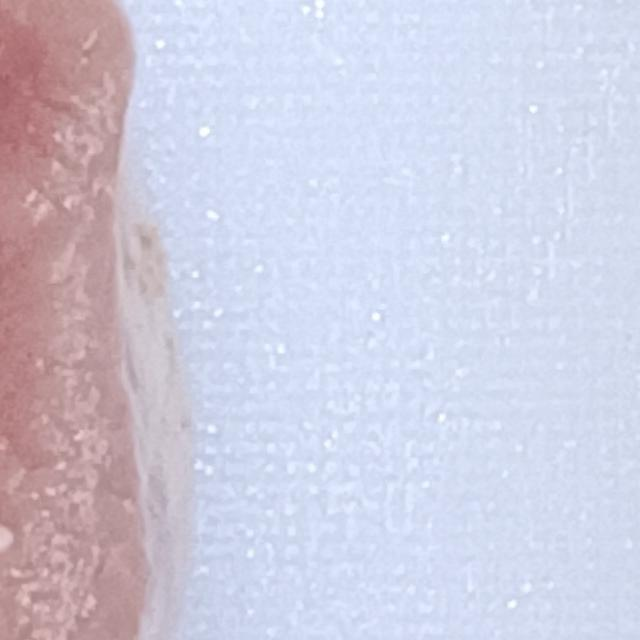pork: (0, 0, 462, 640)
